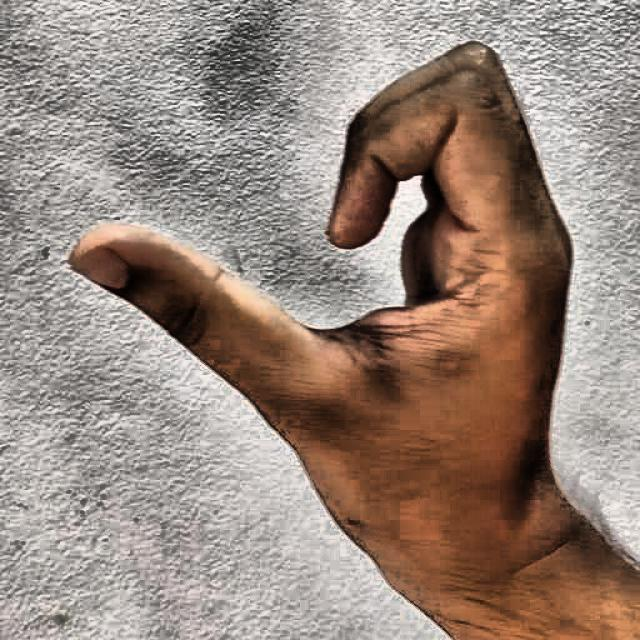Kha: (32, 15, 605, 618)
